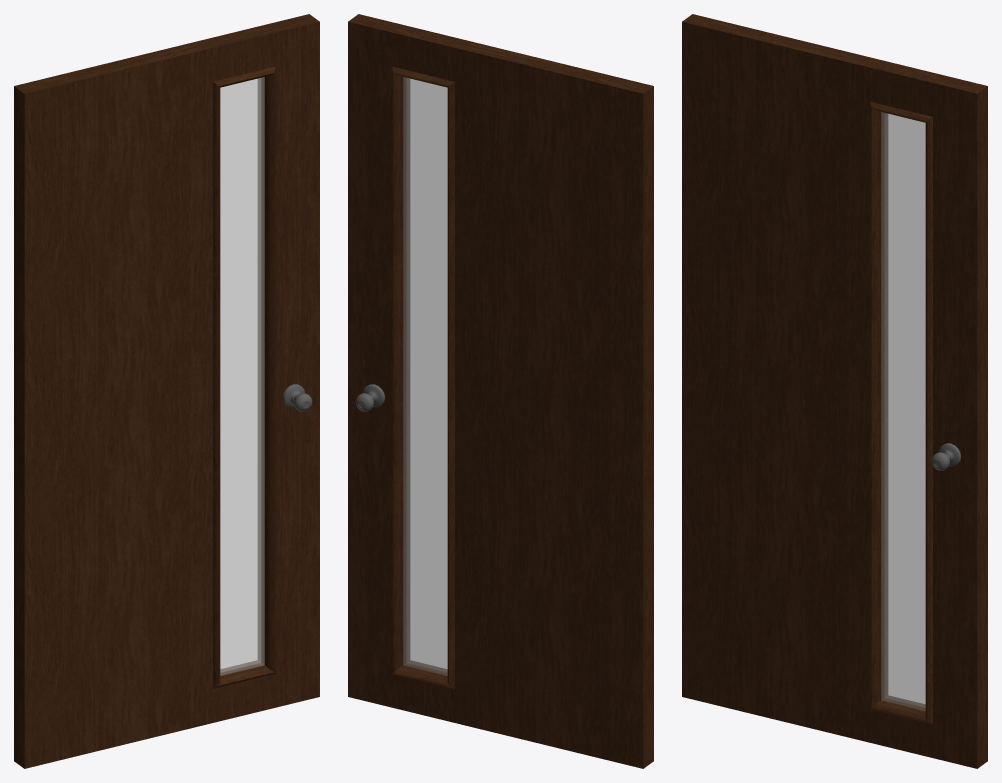
File: d_leaf_f.glb
3 views of the same model, side by side, from view 1: azimuth 30°, elevation 25°; view 2: azimuth 150°, elevation 25°; view 3: azimuth 330°, elevation 25° (orthographic).
Parts seen in each view (by area): view 1: doorFront_F_06_Wood027_0, doorFront_F_06_doorFront_glass_0, doorFront_F_06_doorFront_knob_0; view 2: doorFront_F_06_Wood027_0, doorFront_F_06_doorFront_glass_0, doorFront_F_06_doorFront_knob_0; view 3: doorFront_F_06_Wood027_0, doorFront_F_06_doorFront_glass_0, doorFront_F_06_doorFront_knob_0.
Boxes of the visible parts, x1,y1,x2,y2 form: doorFront_F_06_Wood027_0: (14,14,319,768); doorFront_F_06_doorFront_glass_0: (220,77,264,675); doorFront_F_06_doorFront_knob_0: (283,384,312,411); doorFront_F_06_Wood027_0: (348,14,653,768); doorFront_F_06_doorFront_glass_0: (403,77,447,675); doorFront_F_06_doorFront_knob_0: (355,384,384,411); doorFront_F_06_Wood027_0: (682,14,987,768); doorFront_F_06_doorFront_glass_0: (881,112,925,710); doorFront_F_06_doorFront_knob_0: (931,443,960,470).
Bounding box in the file's own units: 0.9202 × 2.01 × 0.197.
3 materials, 1 textured.
